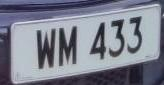3: (125, 13, 147, 57), (107, 15, 126, 64)
4: (88, 17, 109, 67)
M: (56, 23, 81, 73)
W: (33, 26, 59, 74)
